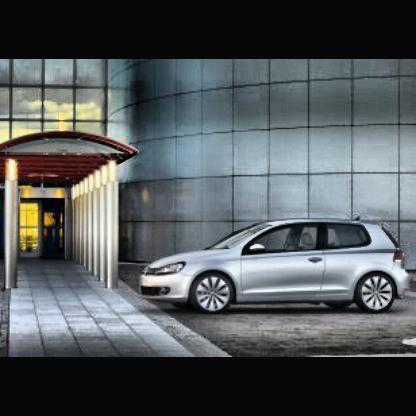Volkswagen Golf Hatchback 2012: (135, 212, 414, 316)
